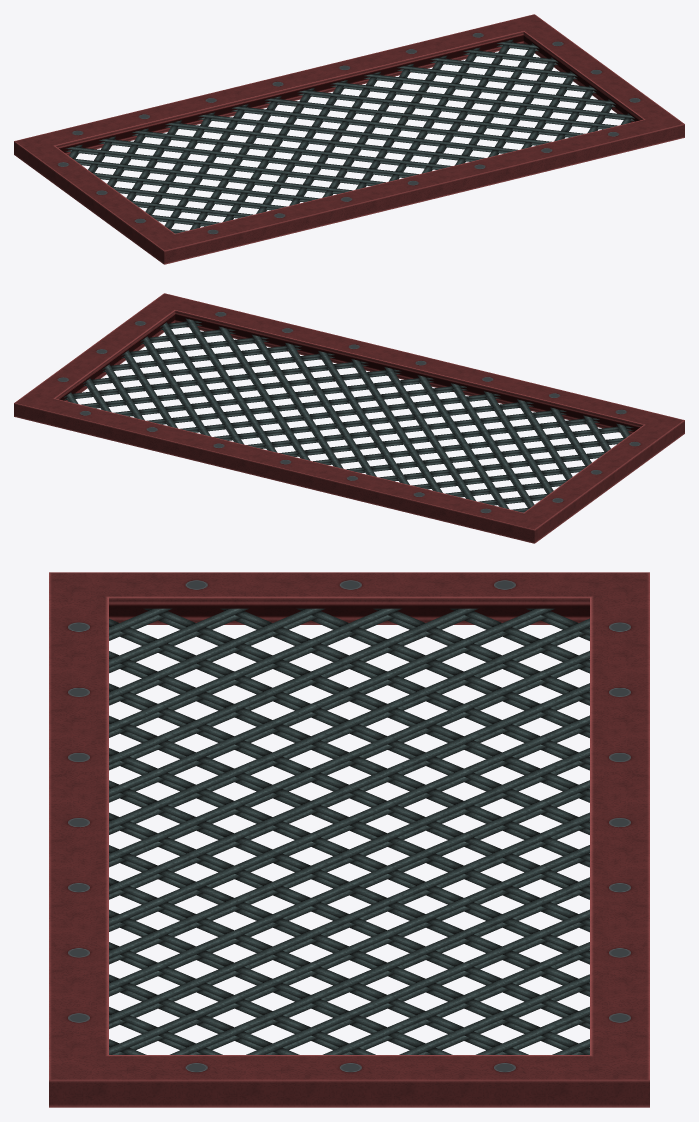
Rendered from StagePlatform.obj.
The picture shows the model from 3 angles, top to bottom: view 1: azimuth 30°, elevation 25°; view 2: azimuth 150°, elevation 25°; view 3: azimuth 270°, elevation 25°; orthographic projection. The views are drawn at different scales.
Parts seen in each view (by area): view 1: Frame, Mesh1, Mesh2; view 2: Frame, Mesh1, Mesh2; view 3: Frame, Mesh1, Mesh2.
Part boxes in pixels (bbox=[...]): Frame: bbox=[14, 14, 684, 264]; Mesh1: bbox=[65, 39, 634, 232]; Mesh2: bbox=[65, 42, 634, 233]; Frame: bbox=[14, 293, 684, 543]; Mesh1: bbox=[64, 318, 633, 511]; Mesh2: bbox=[64, 321, 633, 512]; Frame: bbox=[49, 572, 649, 1107]; Mesh1: bbox=[109, 608, 589, 1054]; Mesh2: bbox=[109, 615, 589, 1054].
Bounding box in the file's own units: 400 × 10 × 200.
3 materials, 3 textured.
